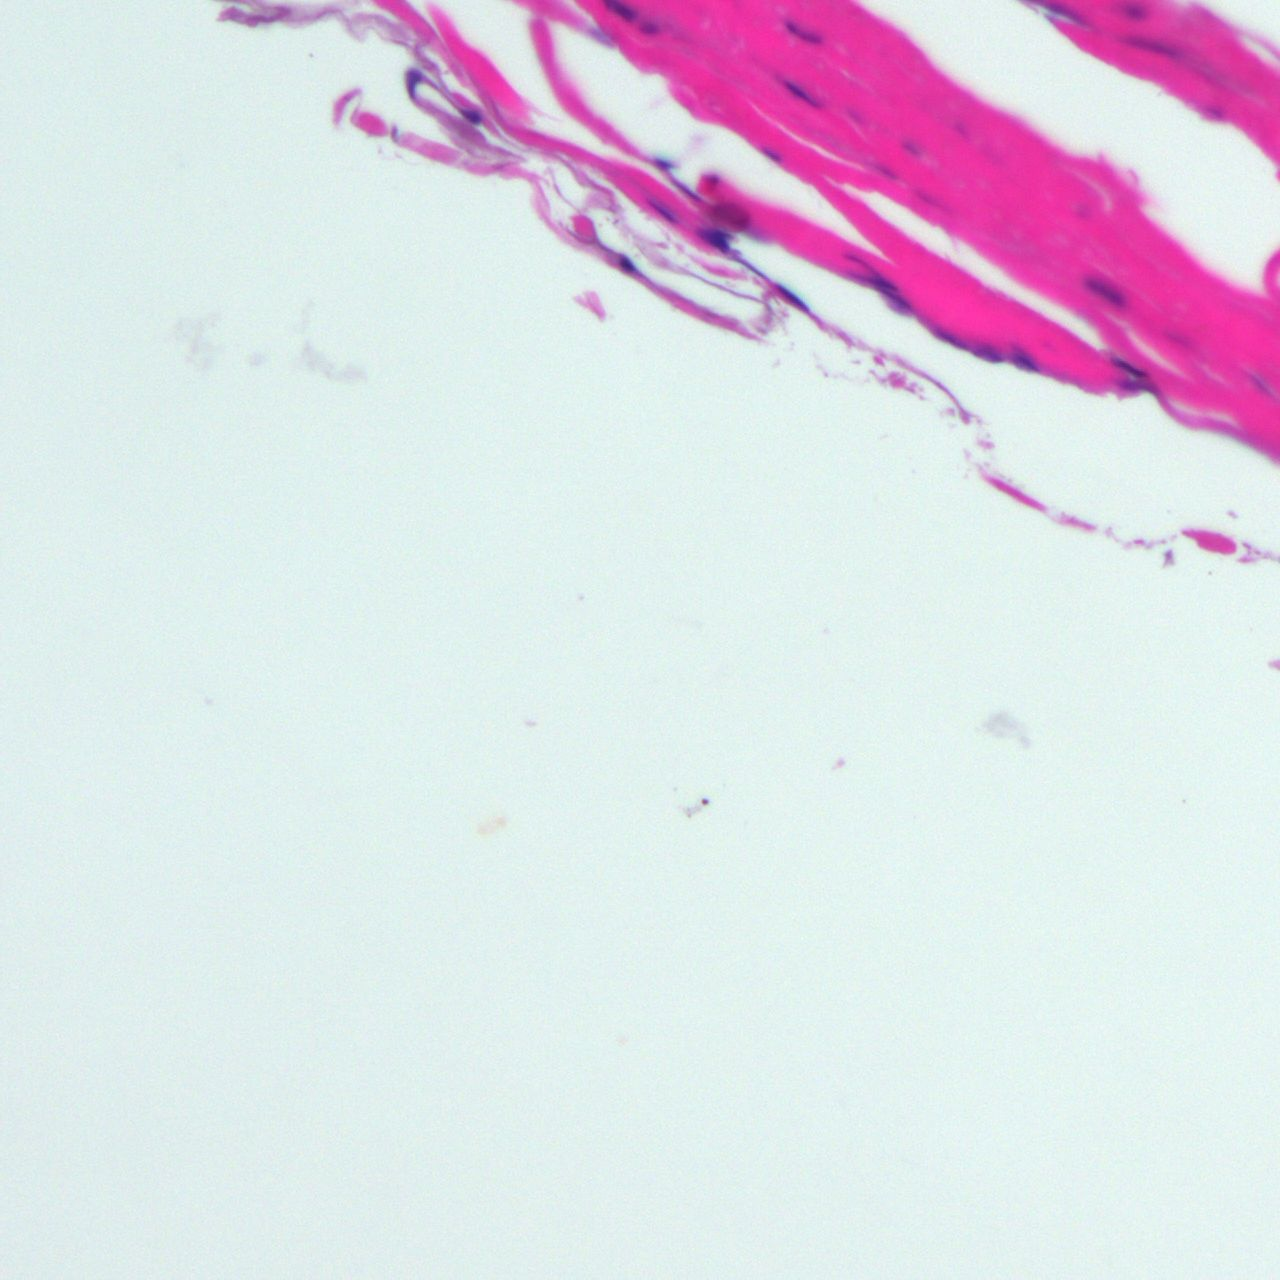nucleus-HE: (653, 151, 704, 207), (850, 256, 900, 297), (1082, 272, 1128, 314), (775, 73, 821, 113), (779, 15, 822, 50), (694, 220, 736, 254), (1107, 350, 1148, 383), (775, 280, 811, 313), (649, 197, 679, 227), (1010, 345, 1039, 375), (1112, 1, 1144, 19), (404, 67, 421, 100), (461, 108, 483, 125), (618, 253, 633, 270)
